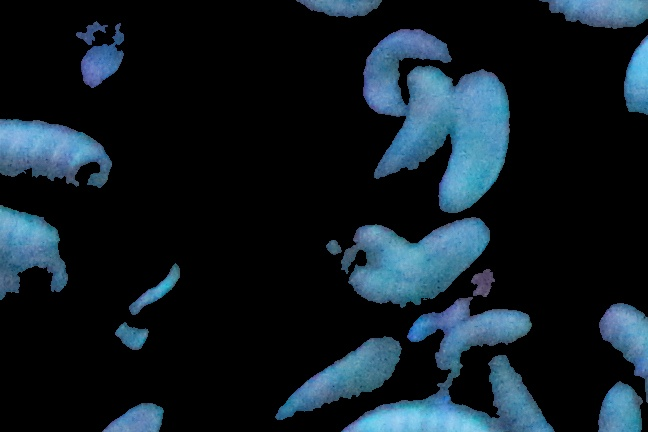larvae: (311, 215, 502, 304), (279, 334, 402, 415), (446, 70, 512, 218), (382, 63, 452, 190), (359, 30, 454, 122), (1, 115, 109, 193), (1, 212, 82, 314), (338, 398, 494, 432), (488, 358, 553, 432), (430, 311, 524, 361), (598, 298, 648, 391), (544, 1, 648, 33), (621, 31, 648, 119), (291, 1, 391, 22)
